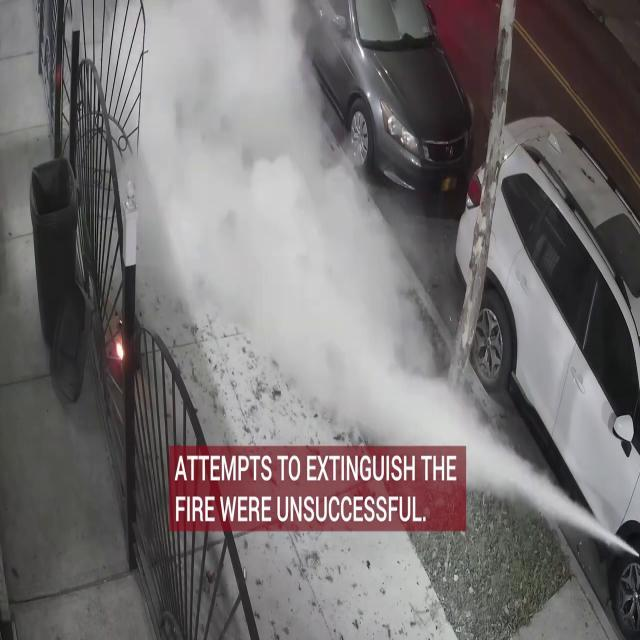Fire: (112, 327, 126, 372)
Smoke: (135, 0, 467, 435)
